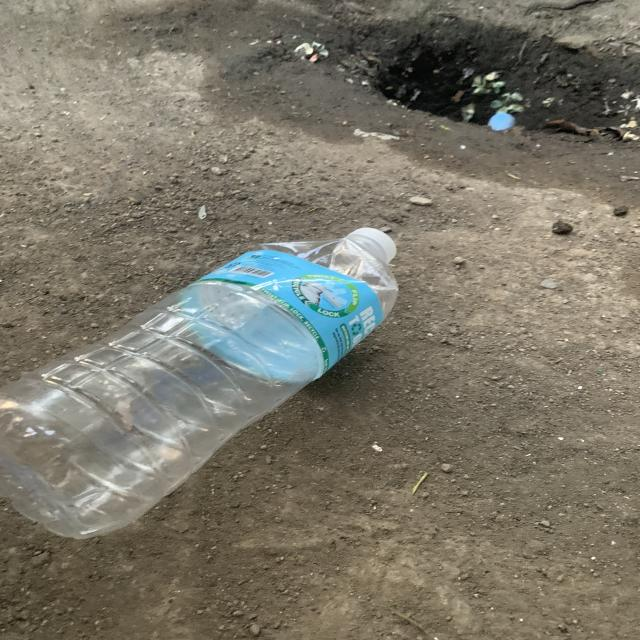Bottle: (0, 228, 398, 538)
